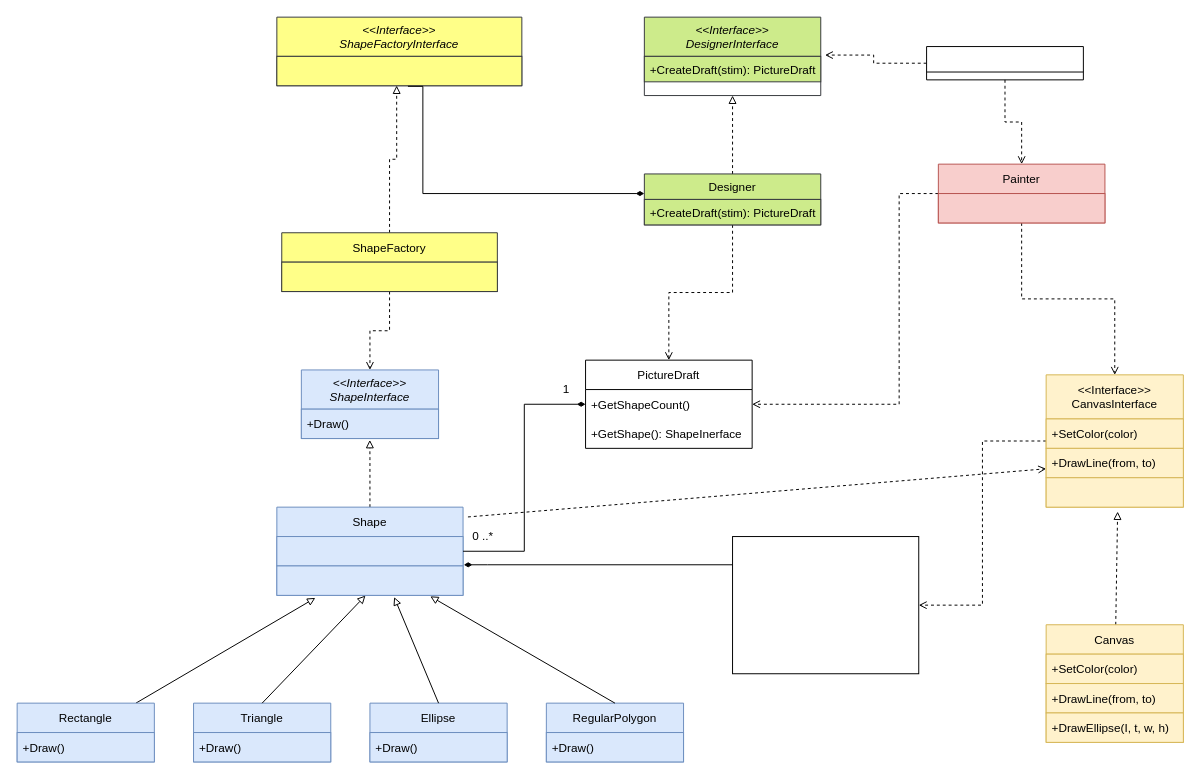
The diagram is 1201 pixels wide and 779 high, and some of its shapes have lost their labels. Each missing label, with the centre of its shape:
"+CreateShape(descr): ShapeInterface" belongs at point 389,276.
"+CreateShape(descr:string): ShapeInterface" belongs at point 399,70.
"+Draw(canvas: CanvasInterface)" belongs at point 369,551.
"+DrawEllipse(i, t, w, h" belongs at point 1114,492.
"+DrawPicture(draft, canvas)" belongs at point 1021,208.
"+GetColor(): Color" belongs at point 369,580.
"<<Enumaration>> Color +Green +Red +Blue +Yellow +Pink +Black" belongs at point 825,605.
"Client" belongs at point 1004,63.
